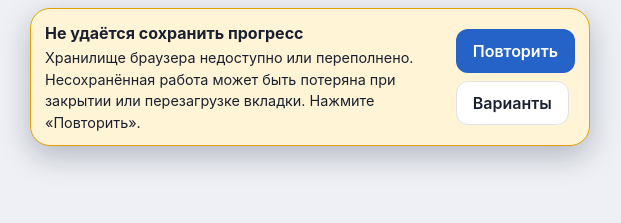
Scenario: F2 (real-browser finding): the replaced notice is also raised by Retry › missed storage event, then Retry: replaced notice shown; attempt kept in Results; no XP without Core authorisation
Step 1. Click the button with test id "notice-retry" → (515, 51), box 456,29 -> 575,73
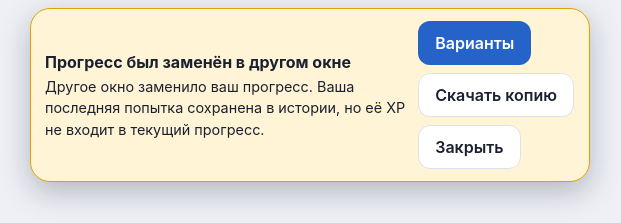
expect the message with test id "storage-notice" shows "не входит в текущий прогресс": met, box 45,78 -> 405,138
